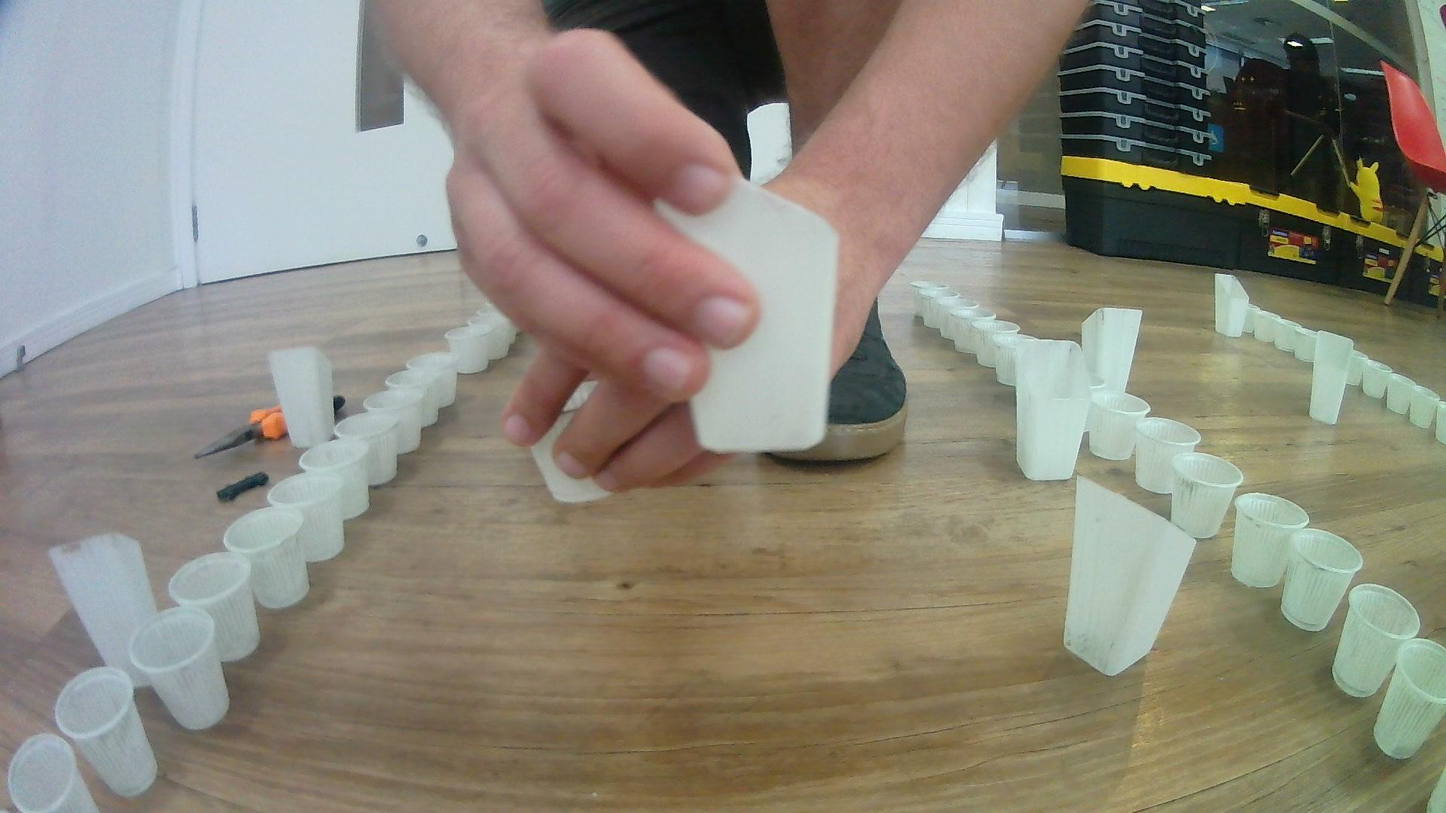erva_daninha: (652, 178, 839, 455), (1060, 473, 1197, 678), (48, 533, 163, 694), (1014, 339, 1088, 482), (267, 347, 334, 450), (1080, 305, 1143, 397), (1309, 329, 1355, 425), (1213, 273, 1249, 338)
planta: (54, 666, 159, 800), (125, 607, 231, 731), (167, 550, 261, 663), (532, 380, 615, 504), (1332, 583, 1420, 698), (1373, 637, 1446, 760), (222, 507, 310, 609), (1281, 529, 1364, 632), (1231, 491, 1310, 589), (6, 734, 100, 813), (267, 472, 345, 562), (1170, 452, 1245, 539), (299, 437, 371, 521), (1135, 417, 1202, 495), (334, 413, 398, 486), (1088, 393, 1151, 461), (362, 388, 423, 455), (384, 370, 440, 428), (405, 352, 458, 410), (993, 333, 1039, 387), (444, 324, 489, 374), (975, 318, 1020, 368), (953, 308, 998, 352), (466, 315, 509, 359), (938, 299, 980, 340), (479, 306, 518, 346), (923, 288, 961, 329), (1411, 385, 1441, 429), (1386, 373, 1417, 415), (911, 280, 944, 318), (1085, 375, 1106, 434), (1362, 359, 1393, 398), (1260, 312, 1292, 347), (1243, 304, 1273, 341), (1275, 318, 1307, 352), (1295, 325, 1319, 363), (1347, 350, 1369, 387), (1435, 399, 1446, 444)
